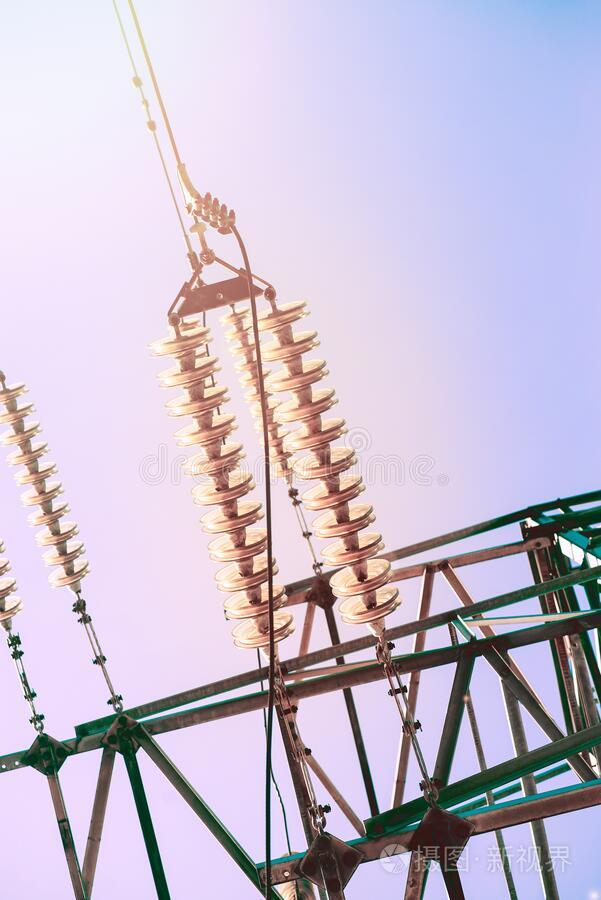insulator: (152, 323, 292, 654), (262, 302, 396, 626), (1, 384, 92, 589), (231, 306, 296, 488), (1, 554, 27, 623)
